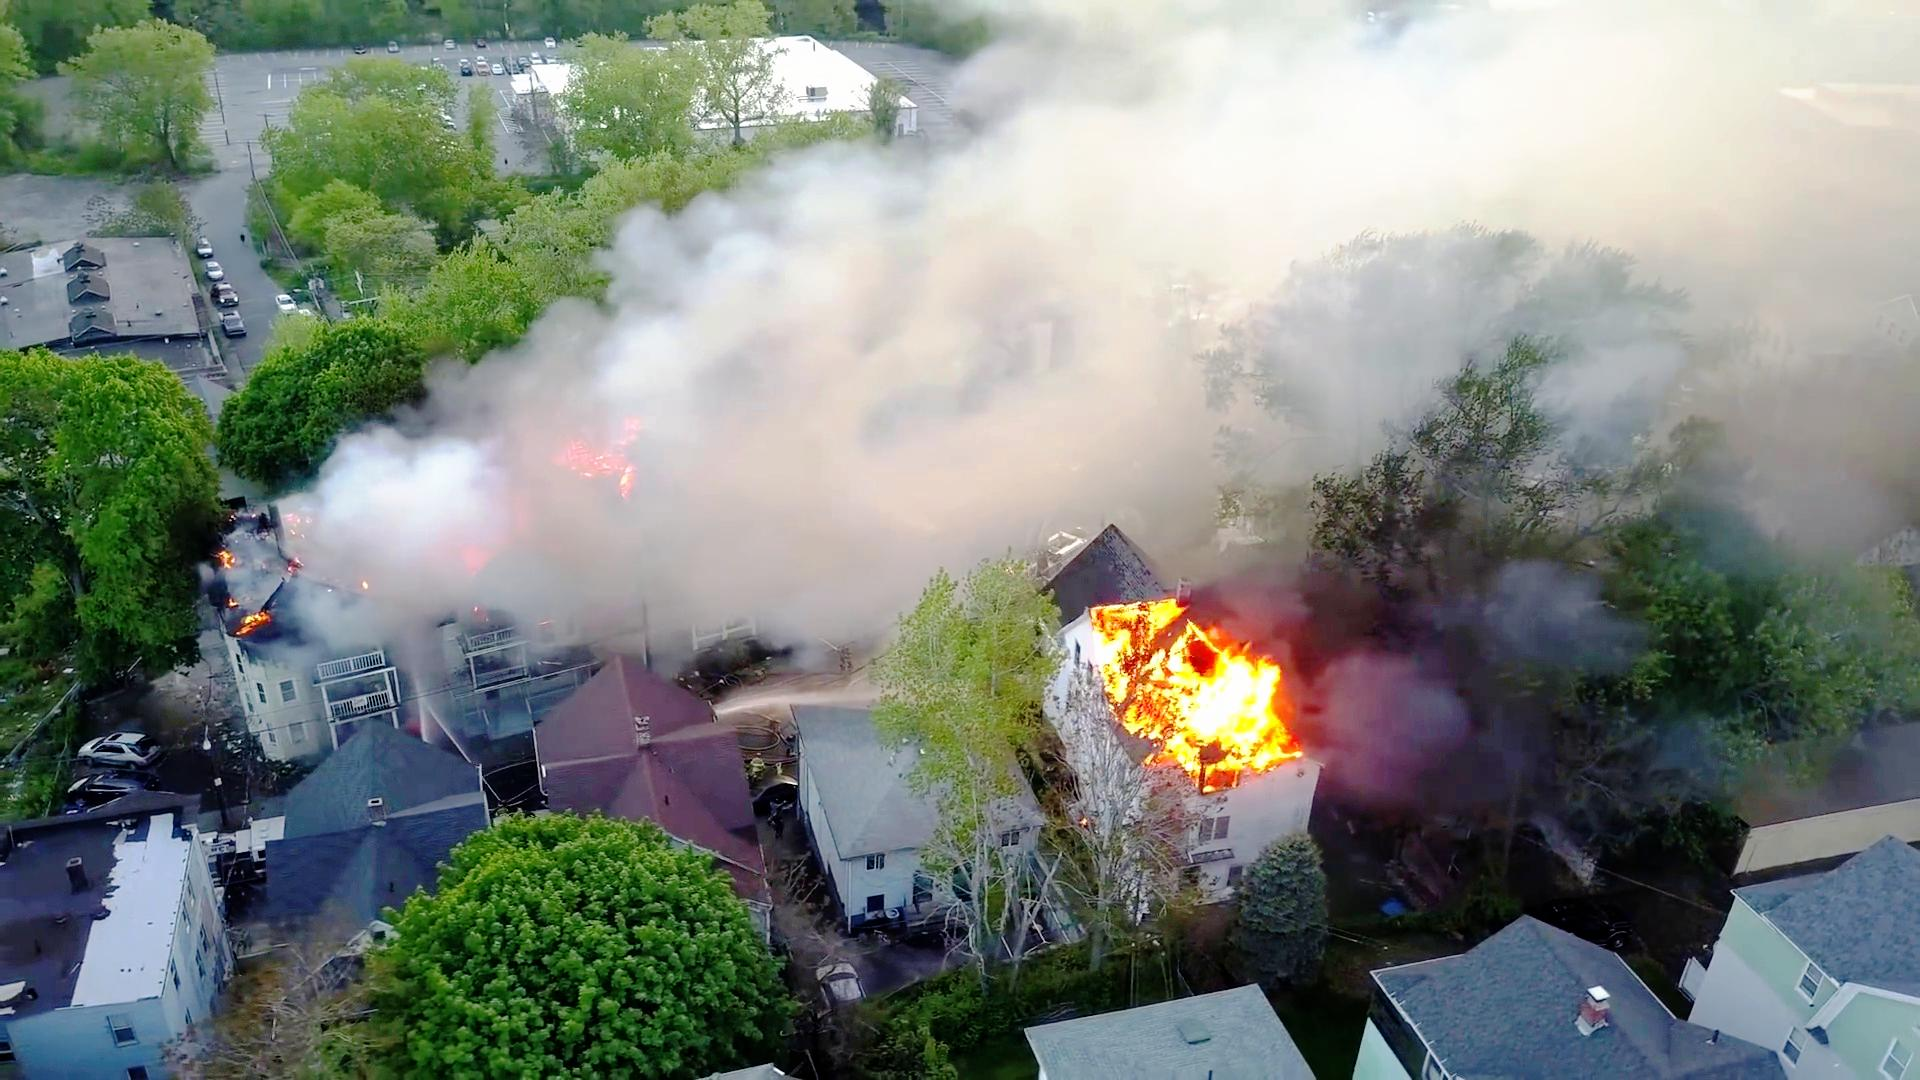fire: (1077, 605, 1269, 794)
